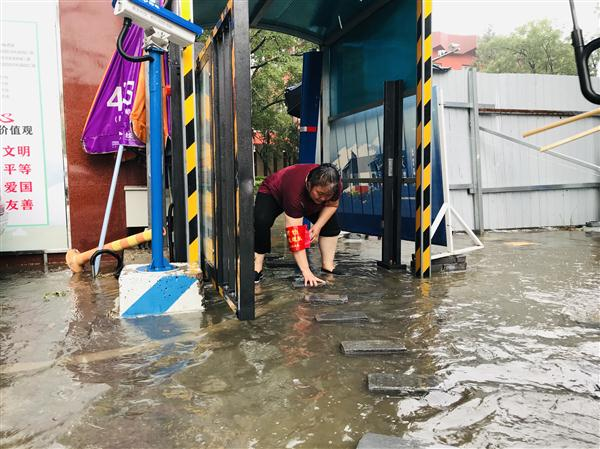puddle: (2, 284, 600, 449)
